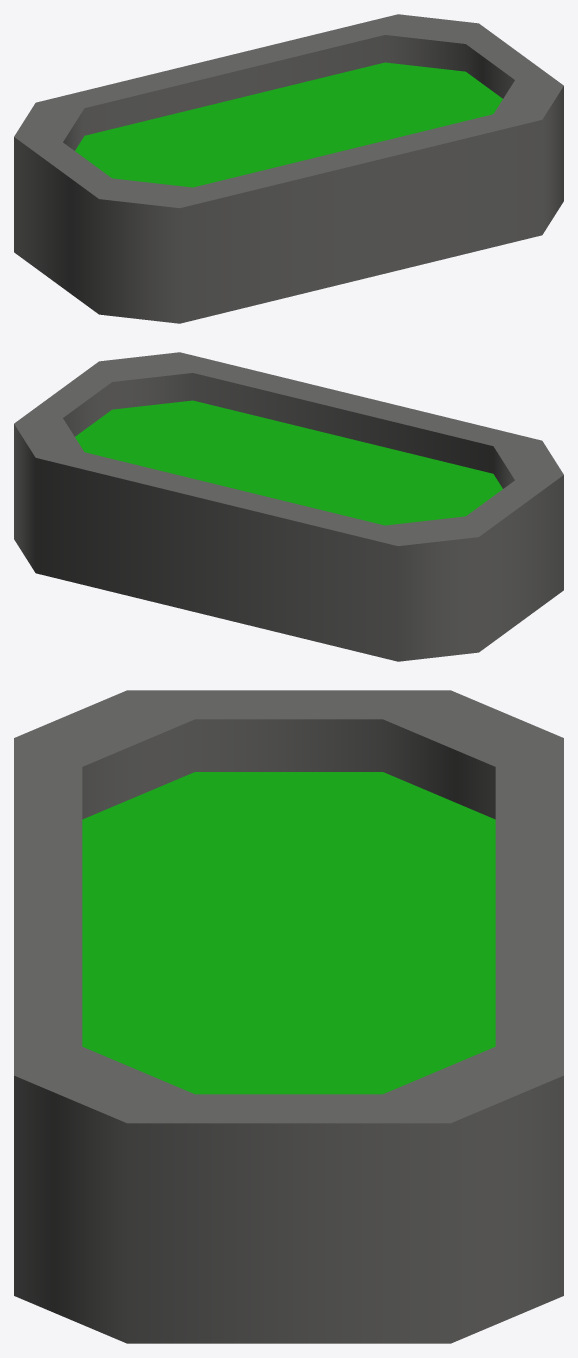
The model's file is plantspot 2.fbx.
3 views of the same model, one above another, from view 1: azimuth 30°, elevation 25°; view 2: azimuth 150°, elevation 25°; view 3: azimuth 270°, elevation 25° (orthographic). The views are drawn at different scales.
Visible parts, largest first — view 1: PlantPot_C; view 2: PlantPot_C; view 3: PlantPot_C.
Part boxes in pixels (left/top/right/bottom): PlantPot_C: left=14, top=14, right=563, bottom=323; PlantPot_C: left=14, top=352, right=563, bottom=661; PlantPot_C: left=14, top=690, right=563, bottom=1343.
Size of the model in its own units: 323 by 76.7 by 173.
